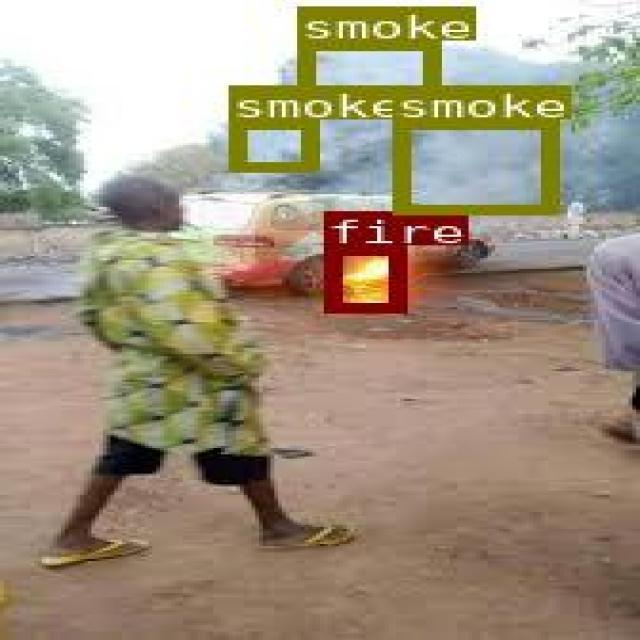fire: (322, 245, 403, 310)
smoke: (389, 118, 553, 212), (294, 39, 436, 117), (226, 118, 312, 170)
